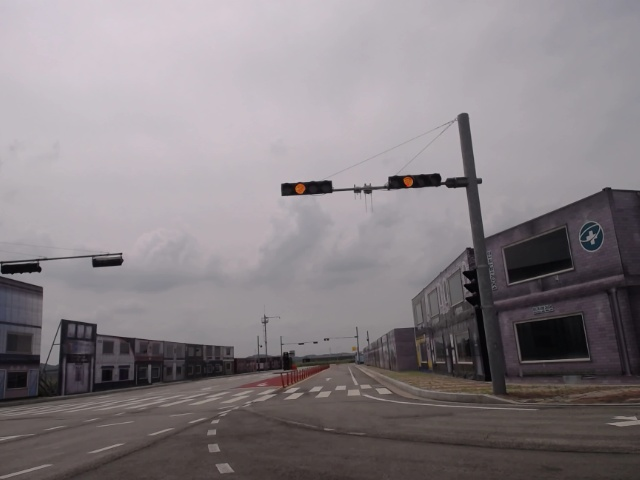orange_4: (389, 173, 445, 189), (280, 181, 337, 195)
